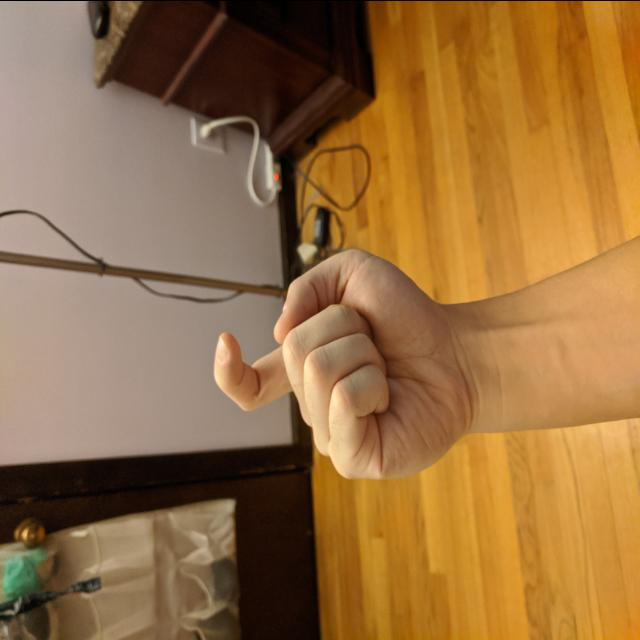X: (209, 236, 479, 488)
